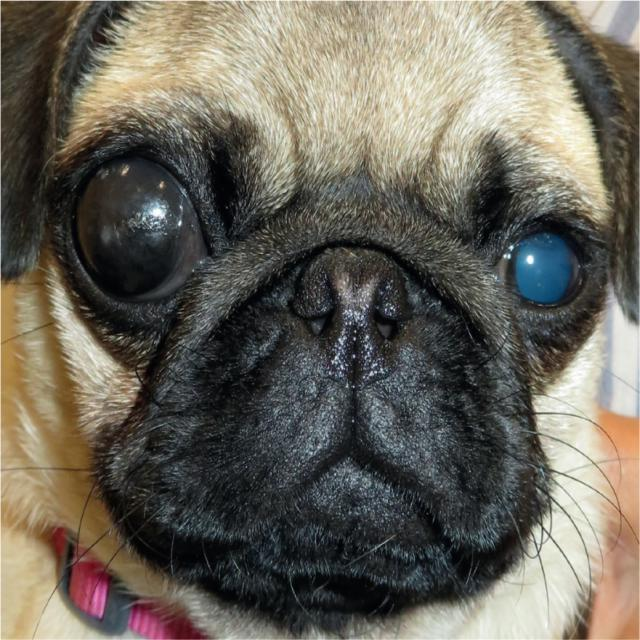eye: (64, 140, 220, 316), (502, 203, 598, 318)
